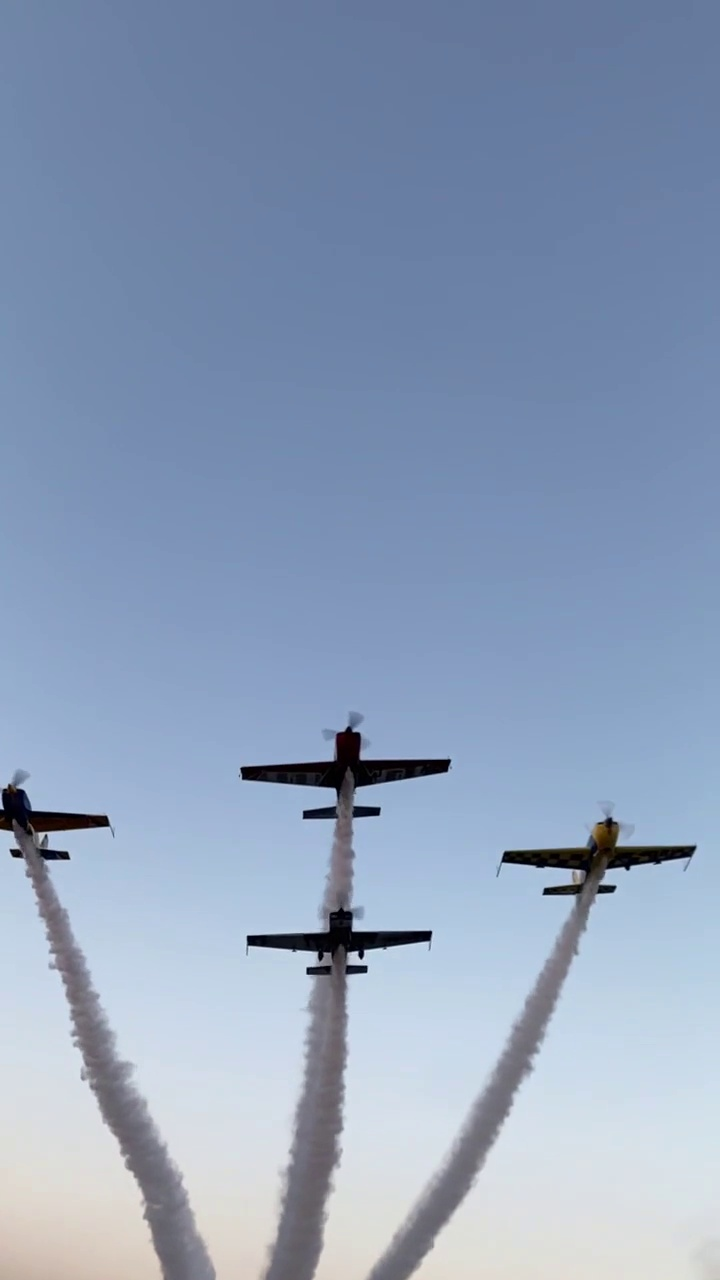plane: (237, 709, 455, 820), (499, 794, 697, 897), (246, 891, 433, 979), (1, 768, 115, 861)
